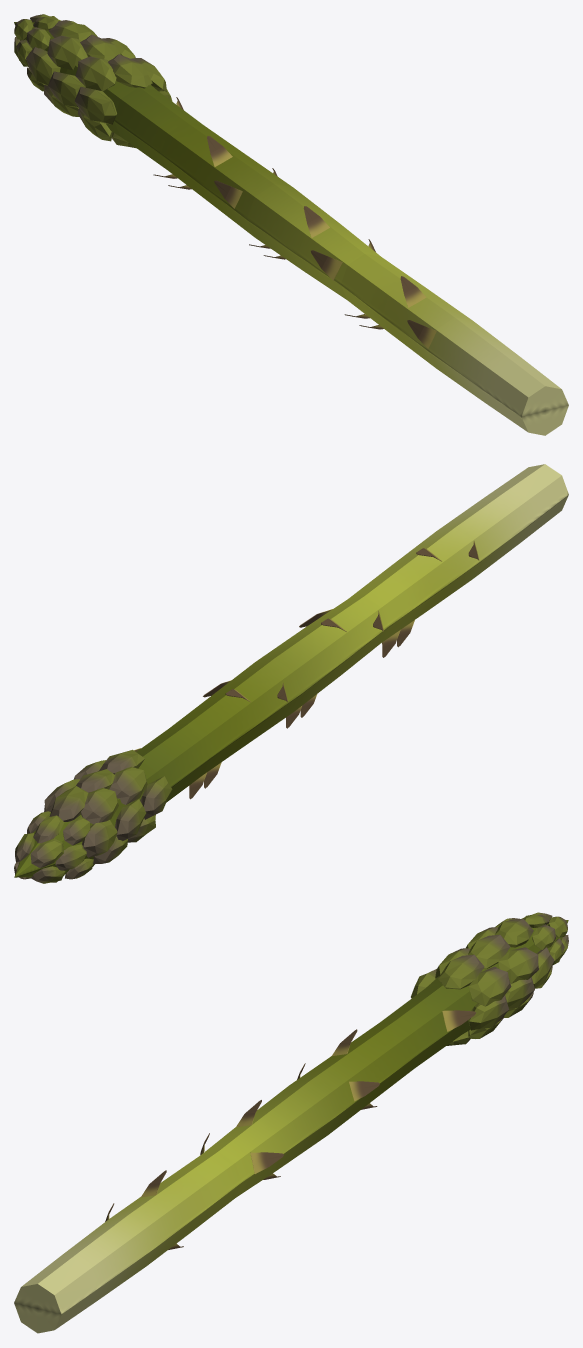
Rendered from asparagus-harvest.glb.
3 renders of one model, top to bottom at view 1: azimuth 30°, elevation 25°; view 2: azimuth 150°, elevation 25°; view 3: azimuth 330°, elevation 25°, orthographic.
Parts seen in each view (by area): view 1: model; view 2: model; view 3: model.
Part boxes in pixels (left/top/right/bottom): model: left=14, top=14, right=568, bottom=435; model: left=14, top=464, right=568, bottom=883; model: left=14, top=912, right=568, bottom=1333.
Size of the model in its own units: 0.0878 by 0.0839 by 1.
Materials: 1 (1 with a texture image).
